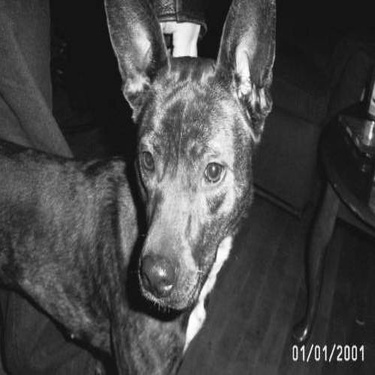dog: (1, 1, 286, 373)
